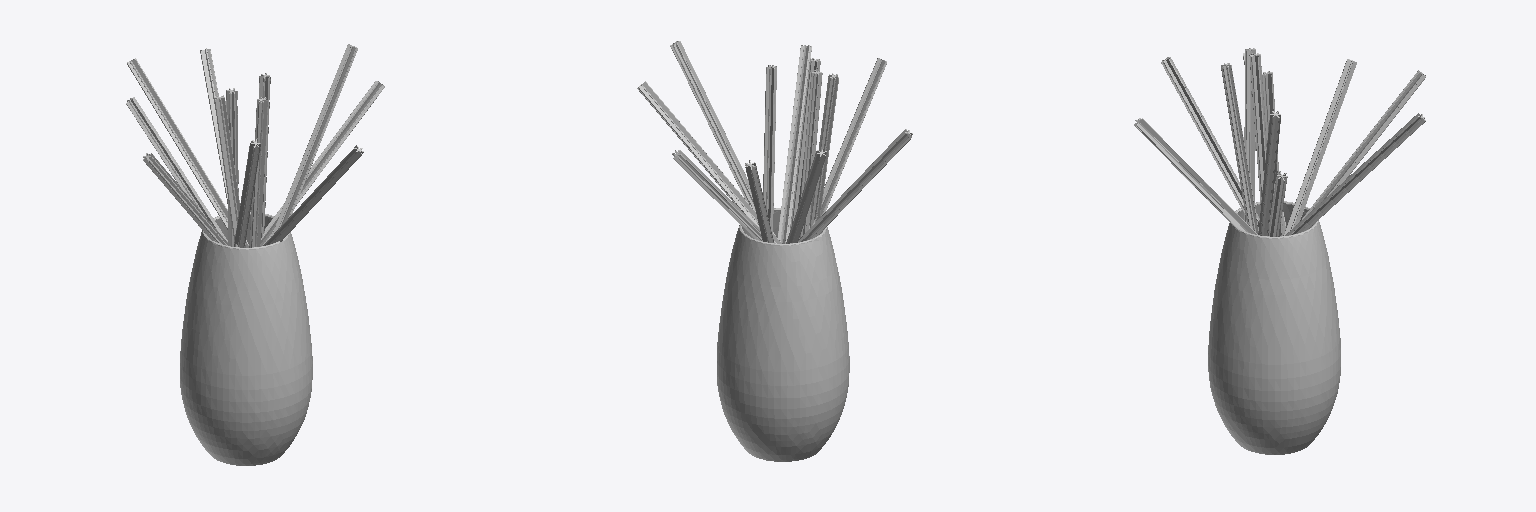
File: 61112032_576844_JoyManganoForeverFragrant20CountT000.obj
3 renders of one model, left to right at view 1: azimuth 30°, elevation 25°; view 2: azimuth 150°, elevation 25°; view 3: azimuth 270°, elevation 25°, orthographic.
Parts seen in each view (by area): view 1: default, _1; view 2: default, _1; view 3: default, _1.
Part boxes in pixels (bbox=[...]): default: bbox=[180, 212, 312, 465]; _1: bbox=[126, 44, 384, 247]; default: bbox=[717, 208, 849, 461]; _1: bbox=[637, 41, 912, 243]; default: bbox=[1208, 201, 1340, 454]; _1: bbox=[1134, 48, 1425, 236].
Size of the model in its own units: 0.1442 by 0.2036 by 0.1418.